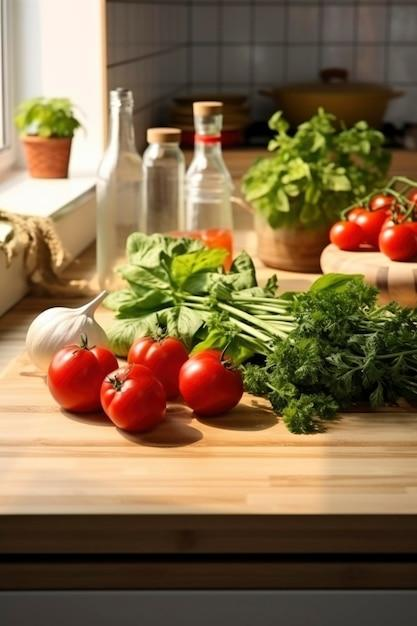apple: (101, 361, 168, 431)
spinach: (98, 210, 417, 403)
tomato: (53, 343, 268, 435), (321, 186, 417, 266)
